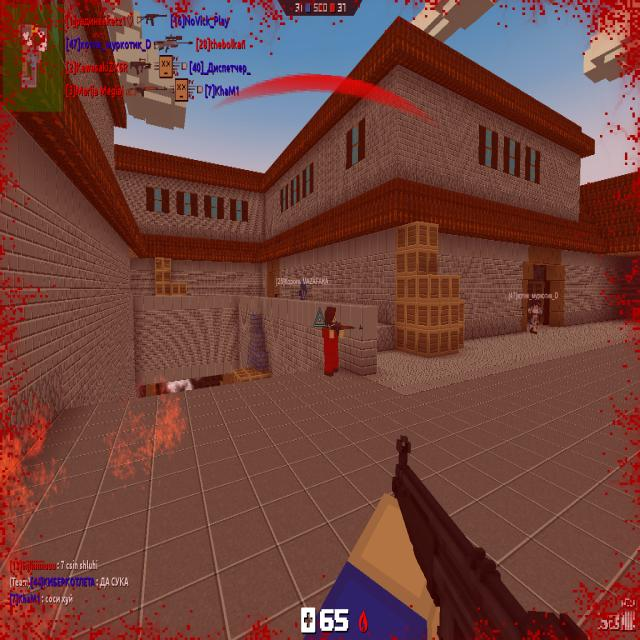enemy: (322, 306, 344, 376)
